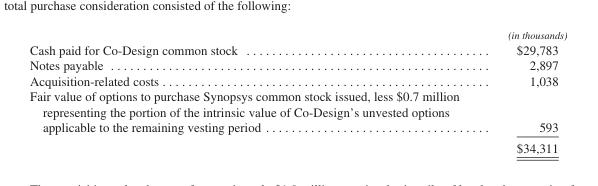table: (28, 28, 566, 154)
table column: (28, 28, 482, 154), (482, 28, 566, 154)
table column header: (28, 28, 566, 41)
table row: (28, 87, 566, 137), (28, 137, 566, 154), (28, 56, 566, 72), (28, 41, 566, 56), (28, 72, 566, 87), (28, 28, 566, 41)
